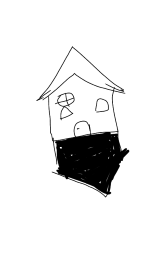closed_window: (55, 89, 77, 120)
door: (70, 118, 96, 139)
open_window: (94, 94, 110, 116)
roof: (26, 41, 130, 103)
shadow: (47, 129, 131, 200)
wall: (46, 78, 119, 141)
